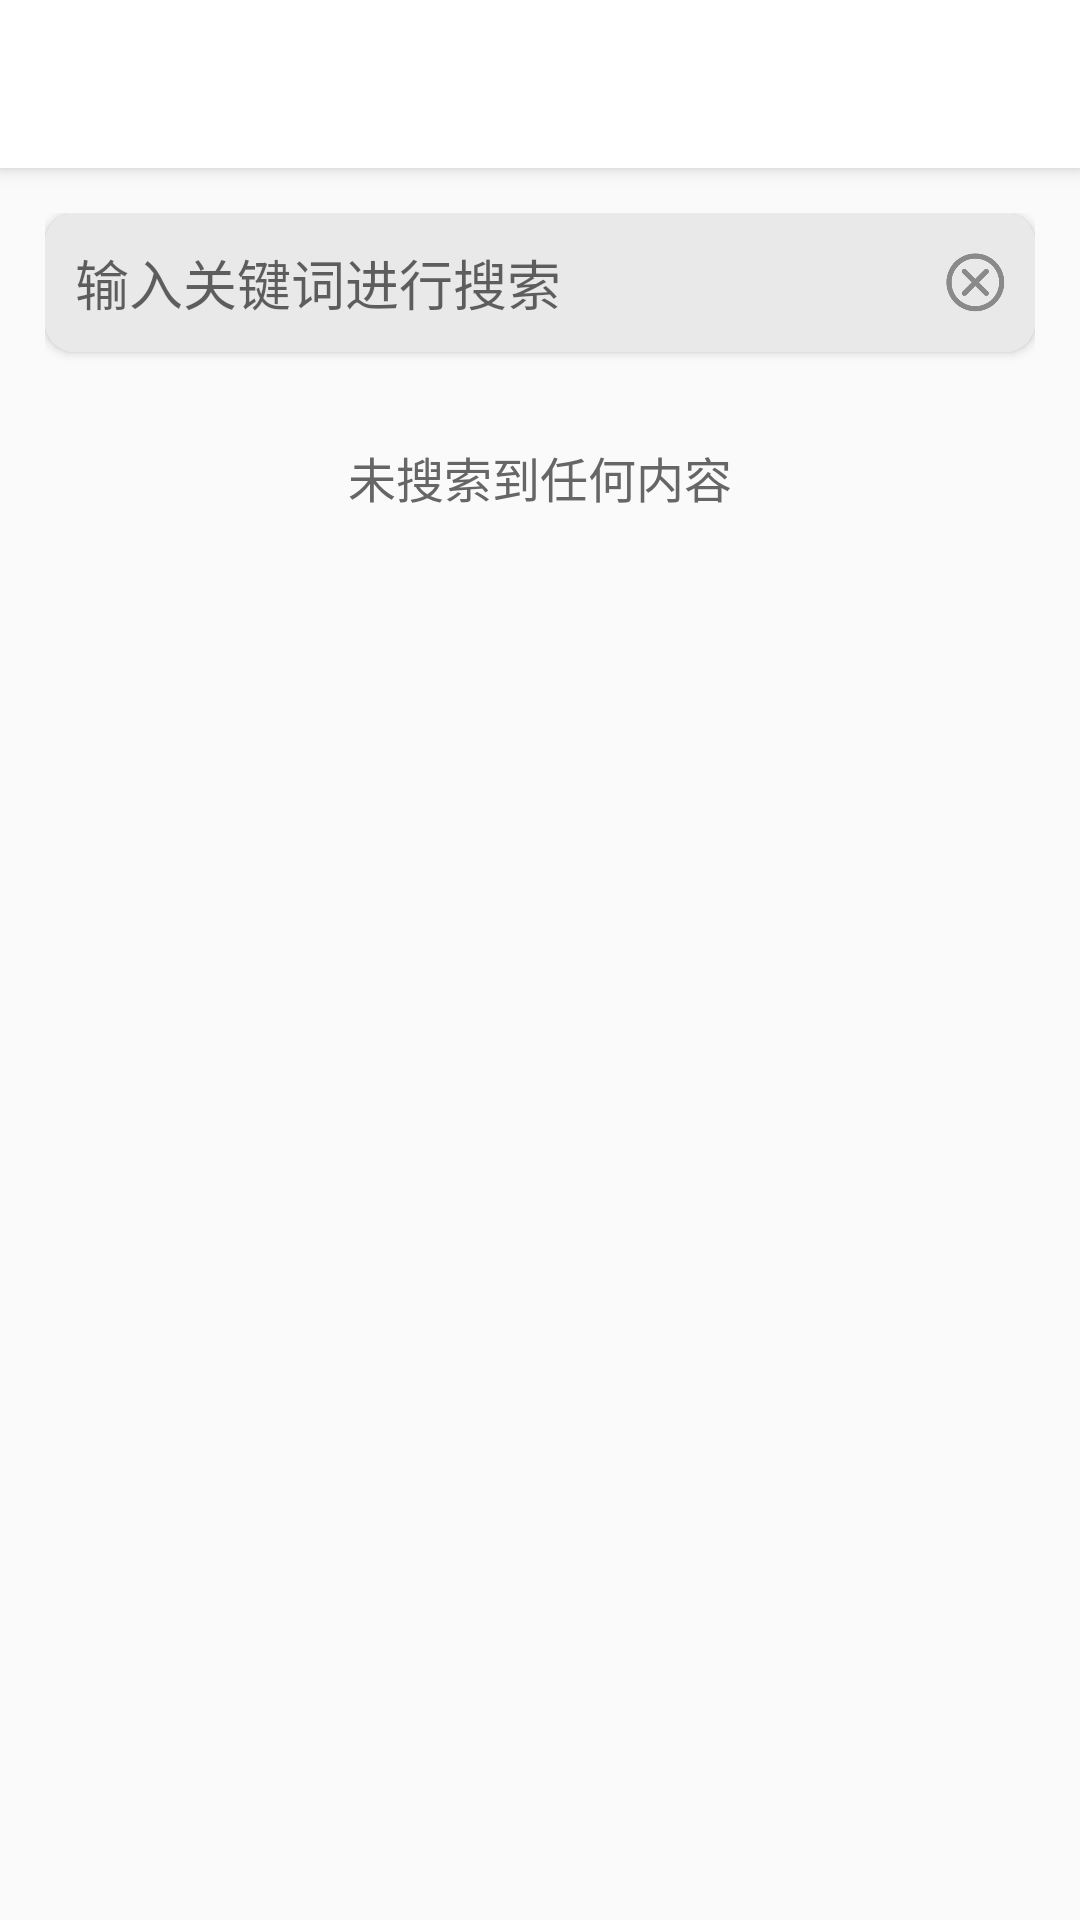

Named icons in this screenshot (1080x1920) and their centers, (x=x, y=y):
clear: (x=975, y=282)
